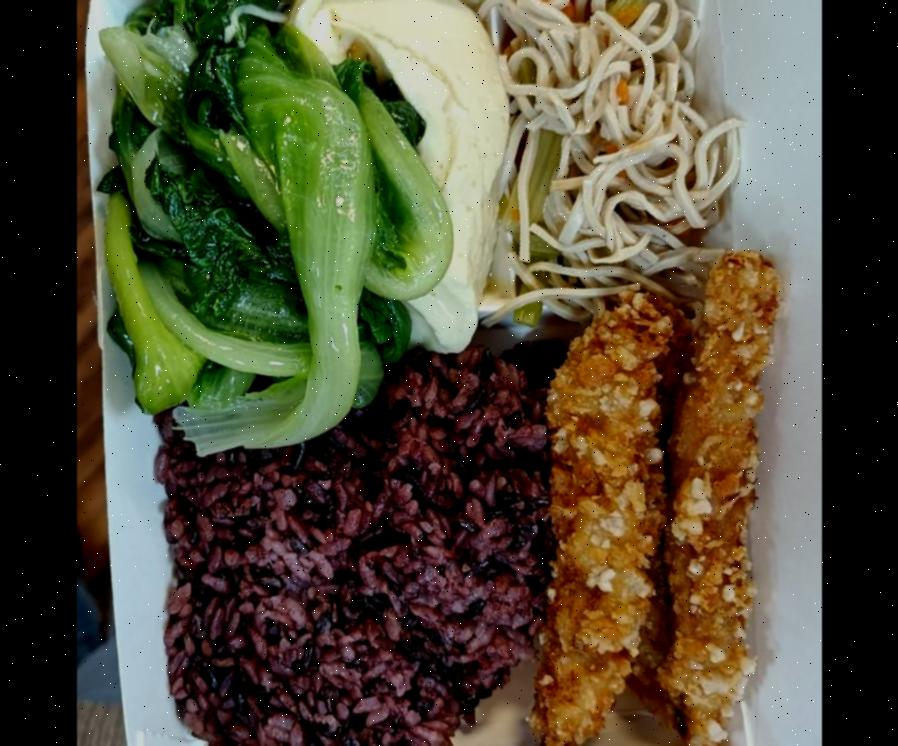big grilled chicken leg: (79, 0, 763, 746)
braised fish: (156, 343, 553, 746)
braised fish fillet: (101, 0, 440, 452), (488, 0, 726, 301), (324, 0, 515, 361)
braised pork: (531, 238, 781, 746)
